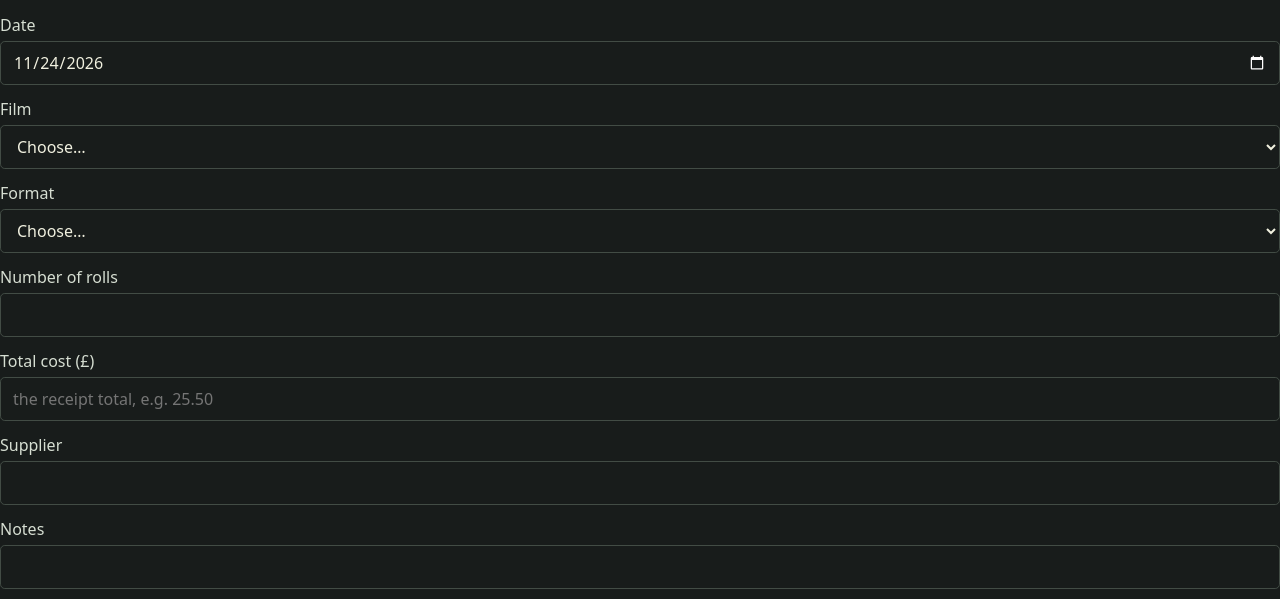
Scenario: records a purchase with the cost in pence
Step 1. Select "Tri-X" in the dropdown labelled "Film" → [640, 148], box [0,126,1279,170]
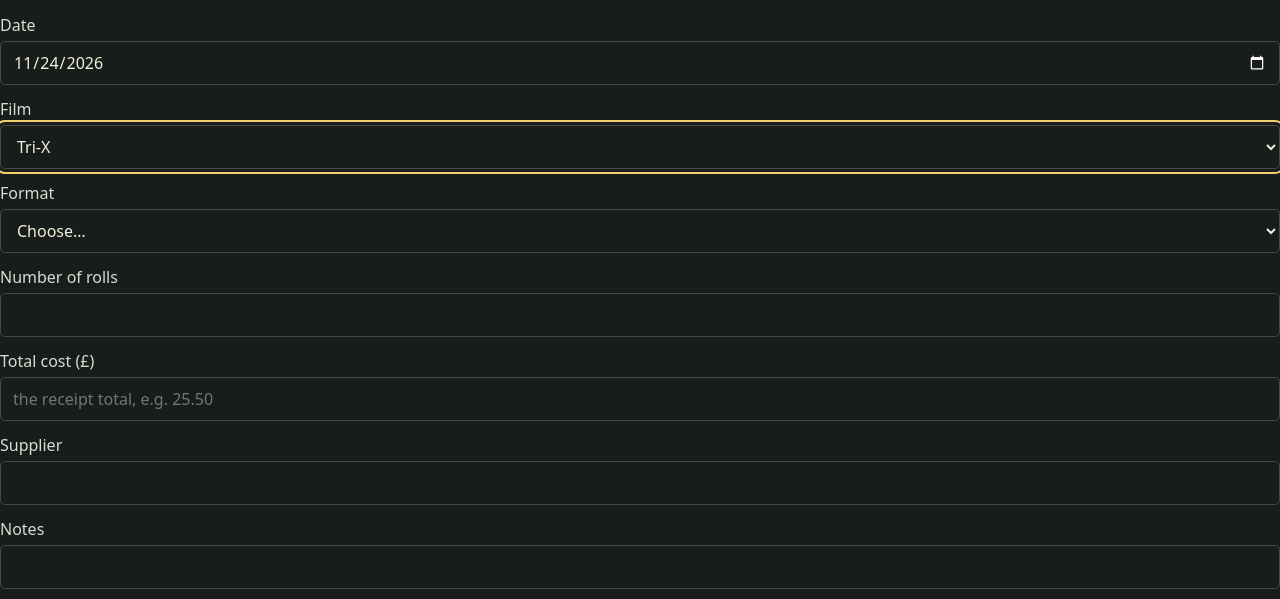
Step 2. Select "35mm" in the dropdown labelled "Format" → [640, 232], box [0,210,1279,254]
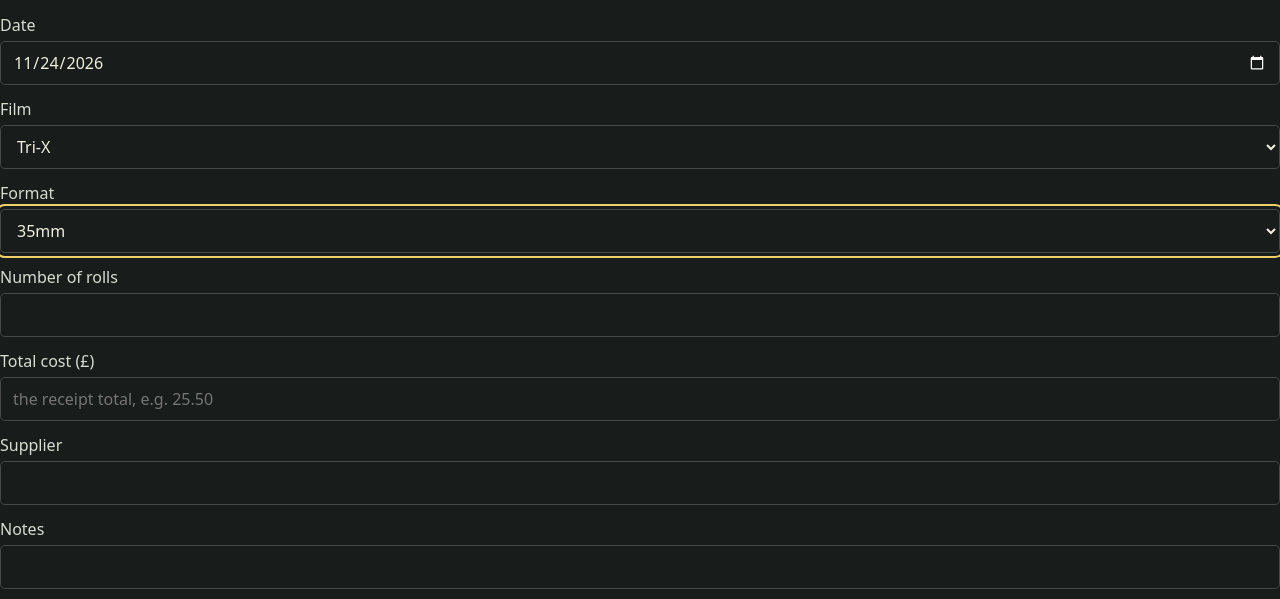
Step 3. Type "5" into the field labelled "Number of rolls" → [640, 316], box [0,294,1279,338]
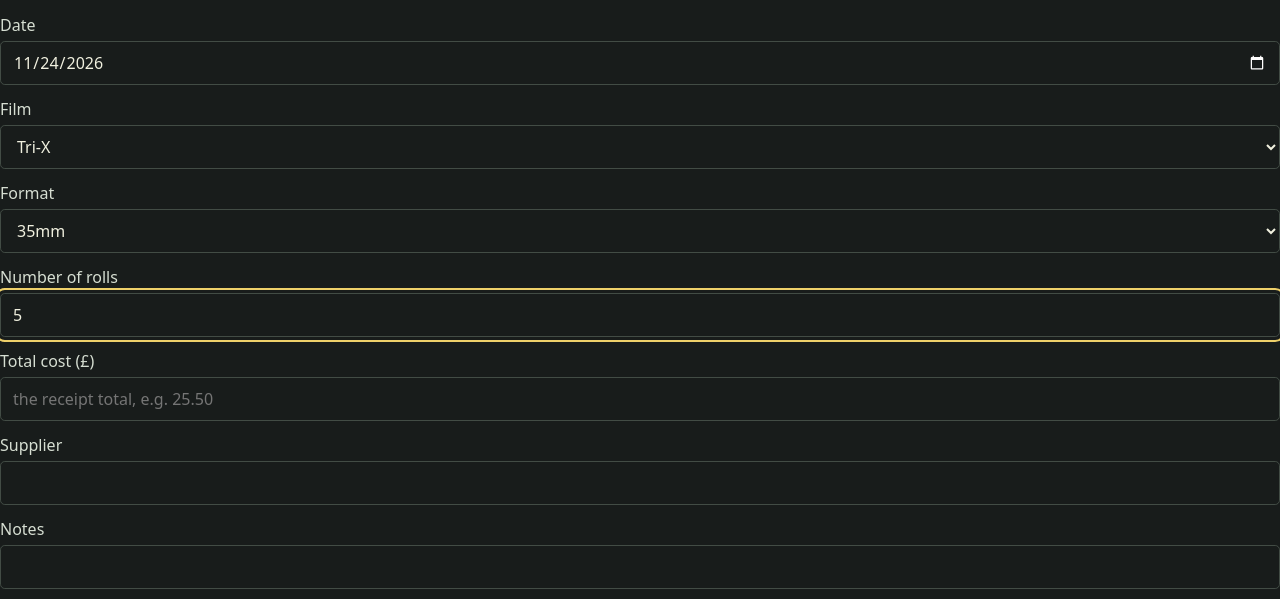
Step 4. Type "25.50" into the field labelled "Total cost (£)" → [640, 400], box [0,378,1279,422]
(page scrolled)
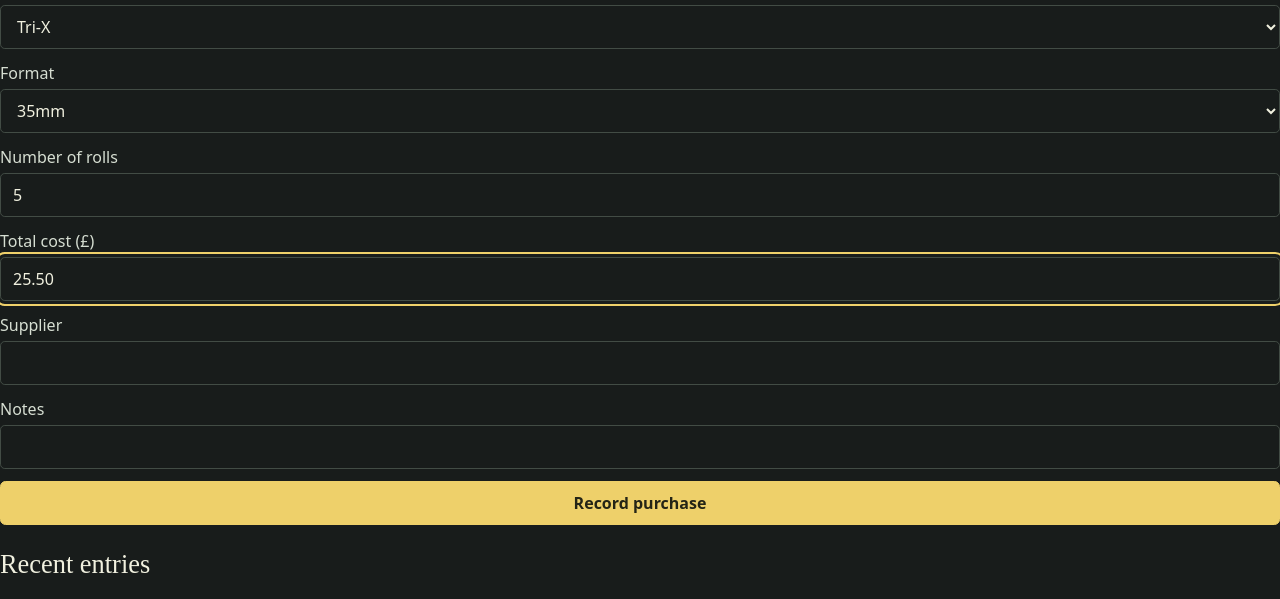
Step 5. Click the button "Record purchase" → [640, 504], box [0,482,1279,526]
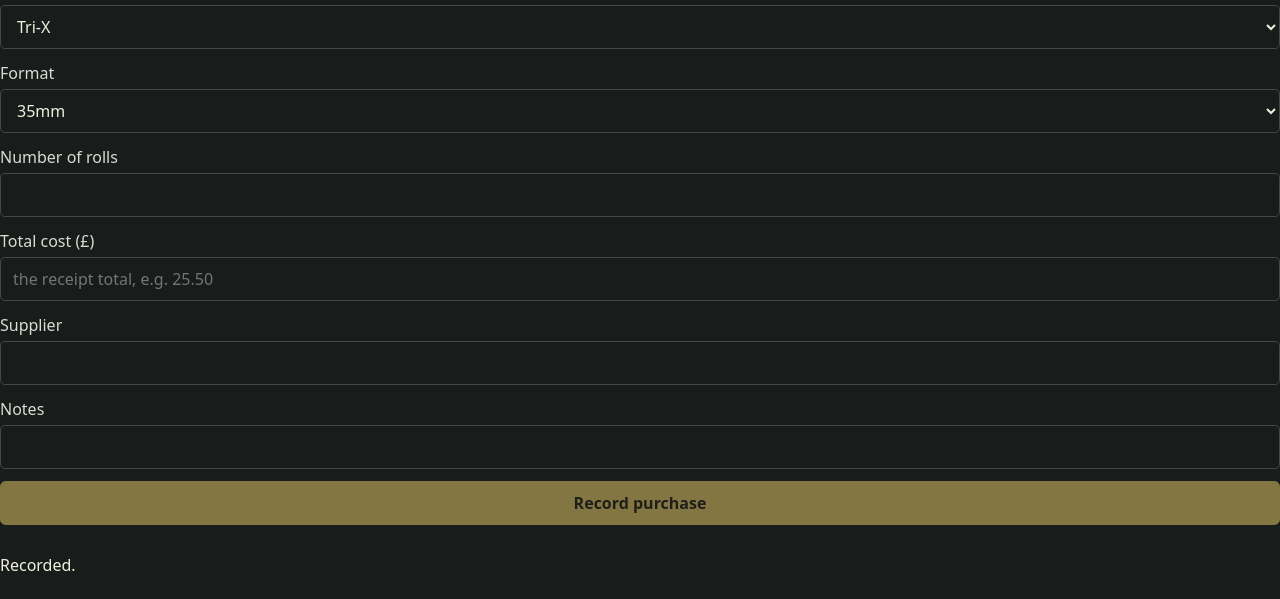
Now the text "Recorded." is shown, box [0,554,76,576]
